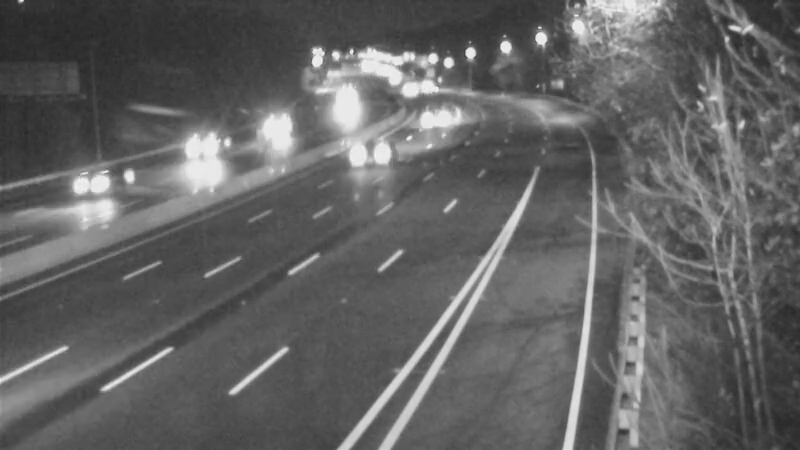vehicle: (48, 149, 128, 229), (165, 112, 245, 192), (397, 93, 447, 143), (344, 125, 394, 175), (246, 100, 296, 150), (318, 73, 368, 123)
